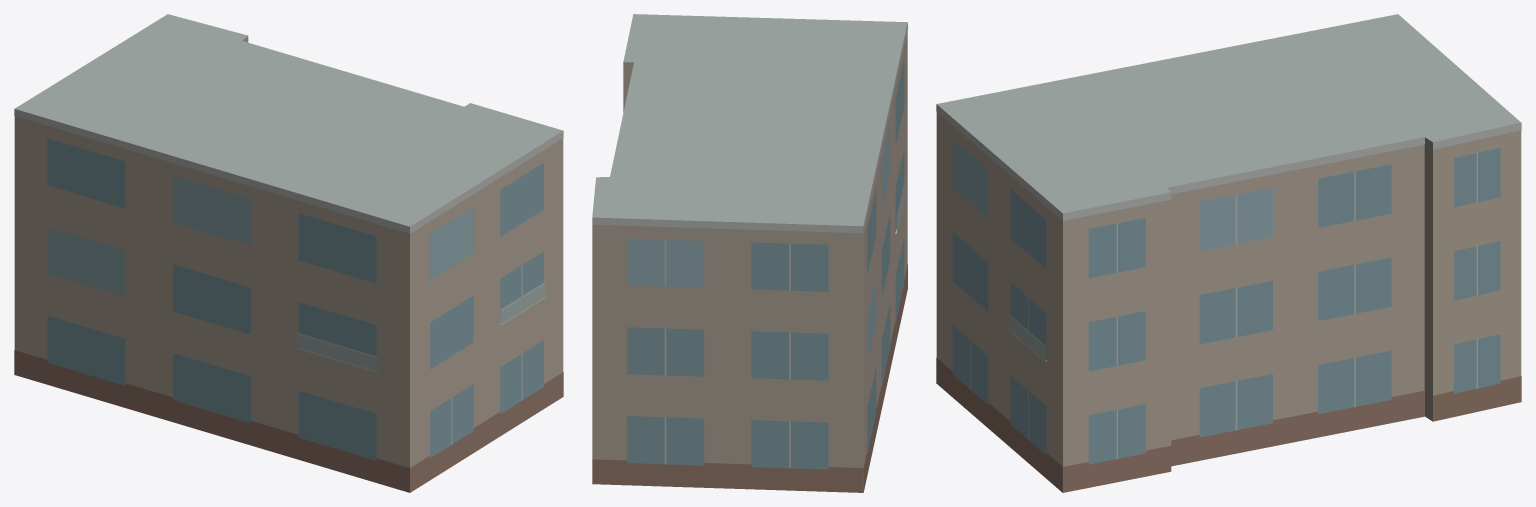
File: survey-upis-32604367.glb
The picture shows the model from 3 angles, left to right: view 1: azimuth 30°, elevation 25°; view 2: azimuth 150°, elevation 25°; view 3: azimuth 270°, elevation 25°; orthographic projection. The views are drawn at different scales.
Parts seen in each view (by area): view 1: survey-upis-32604367.tmp; view 2: survey-upis-32604367.tmp; view 3: survey-upis-32604367.tmp.
Boxes of the visible parts, x1,y1,x2,y2 form: survey-upis-32604367.tmp: (14,14,563,492); survey-upis-32604367.tmp: (592,14,907,492); survey-upis-32604367.tmp: (936,14,1521,492).
Bounding box in the file's own units: 14.02 × 9.15 × 17.37.
